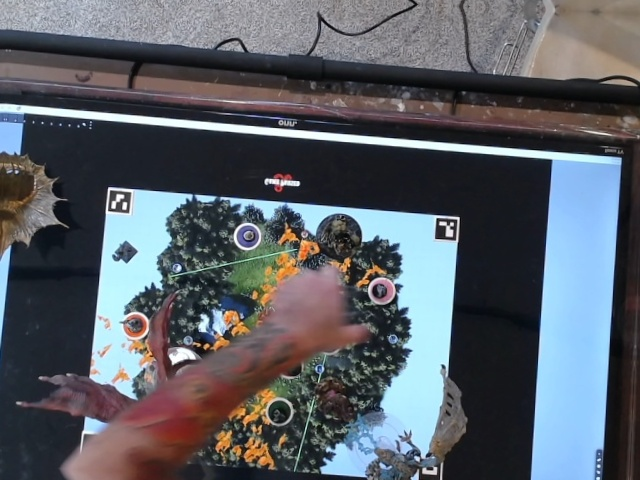green: (265, 387, 299, 429)
orange: (115, 301, 156, 343)
pink: (362, 274, 398, 307)
red: (274, 348, 311, 382)
violet: (232, 217, 263, 254)
